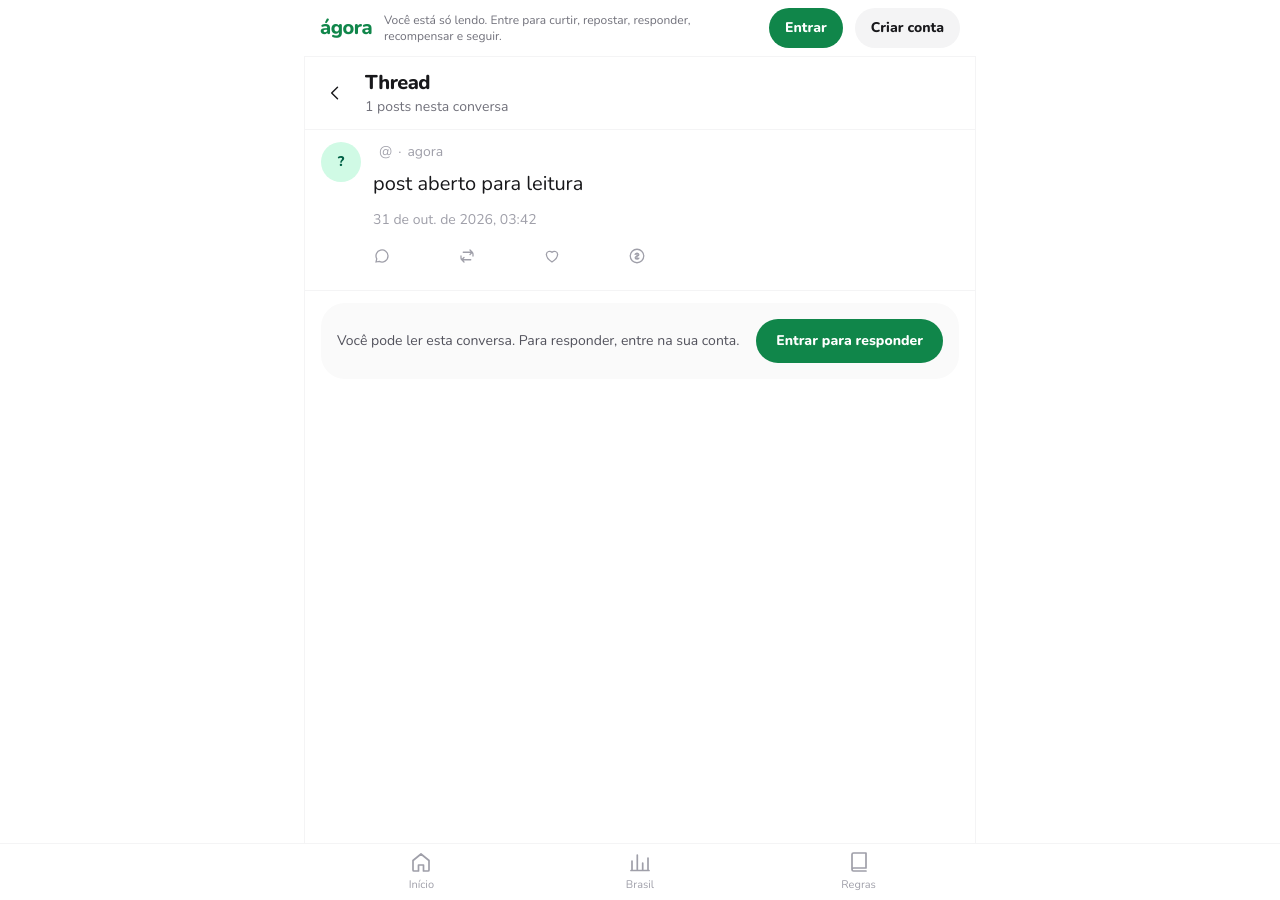
Test: visitante (sem conta) › ao sair, a versão de leitura confirma a saída, e o aviso pode ser fechado
This screenshot has width=1280, height=900.
Click the button "Entrar para responder" at (850, 340), box [756, 318, 943, 362]
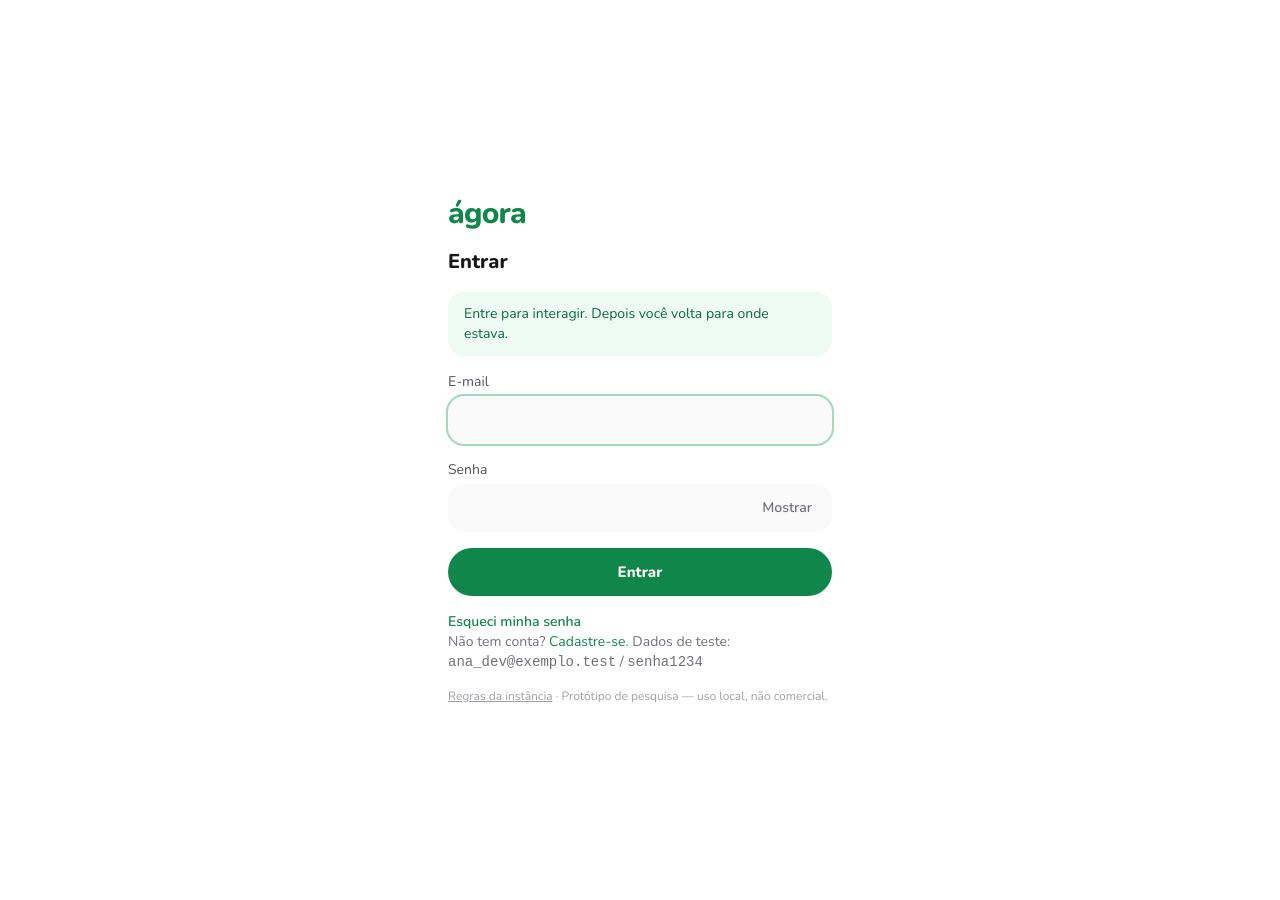
Type "ana@exemplo.test" into the field labelled "E-mail" at (640, 420), box [448, 396, 832, 444]
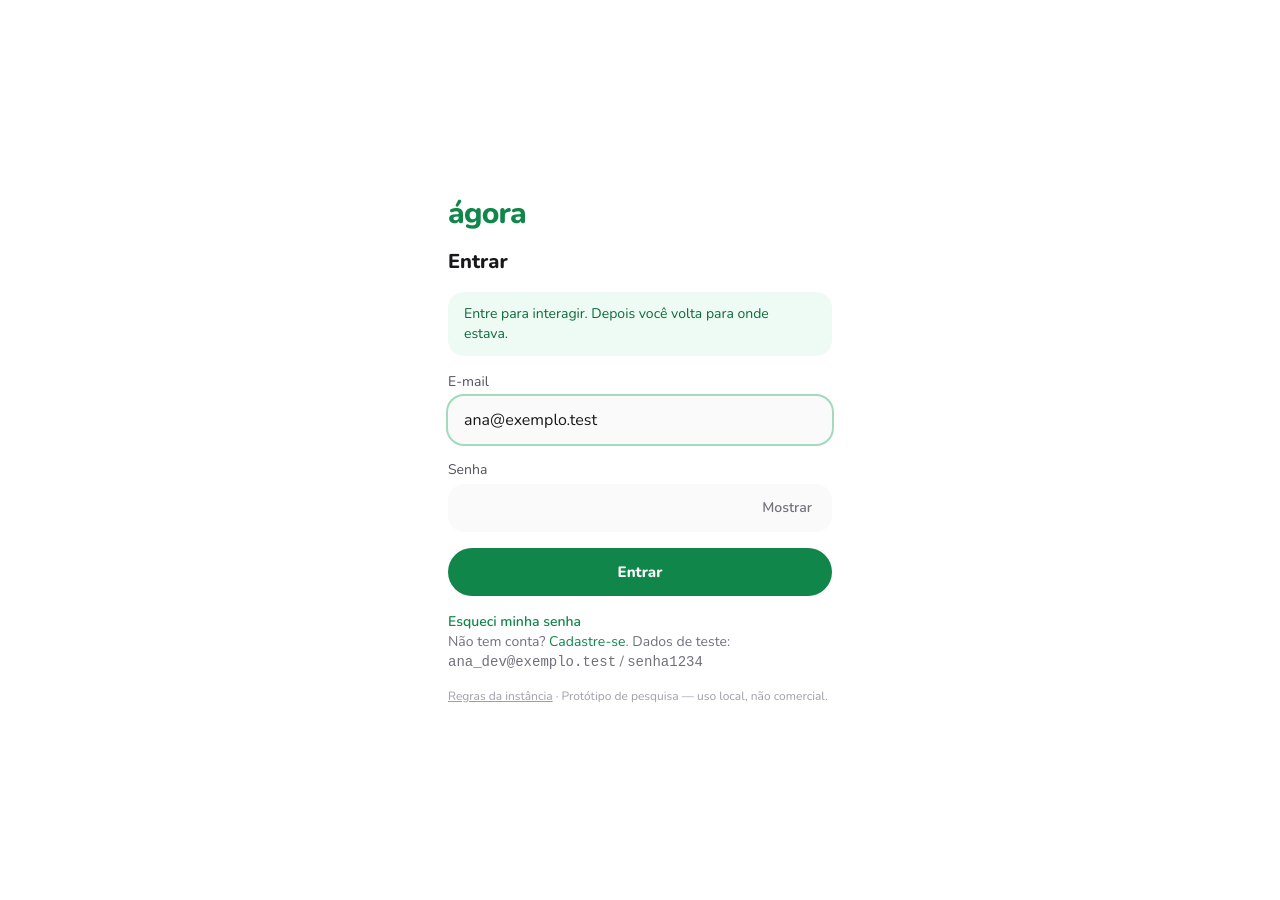
Type "senha1234" into the password field labelled "Senha" at (640, 508), box [448, 484, 832, 532]
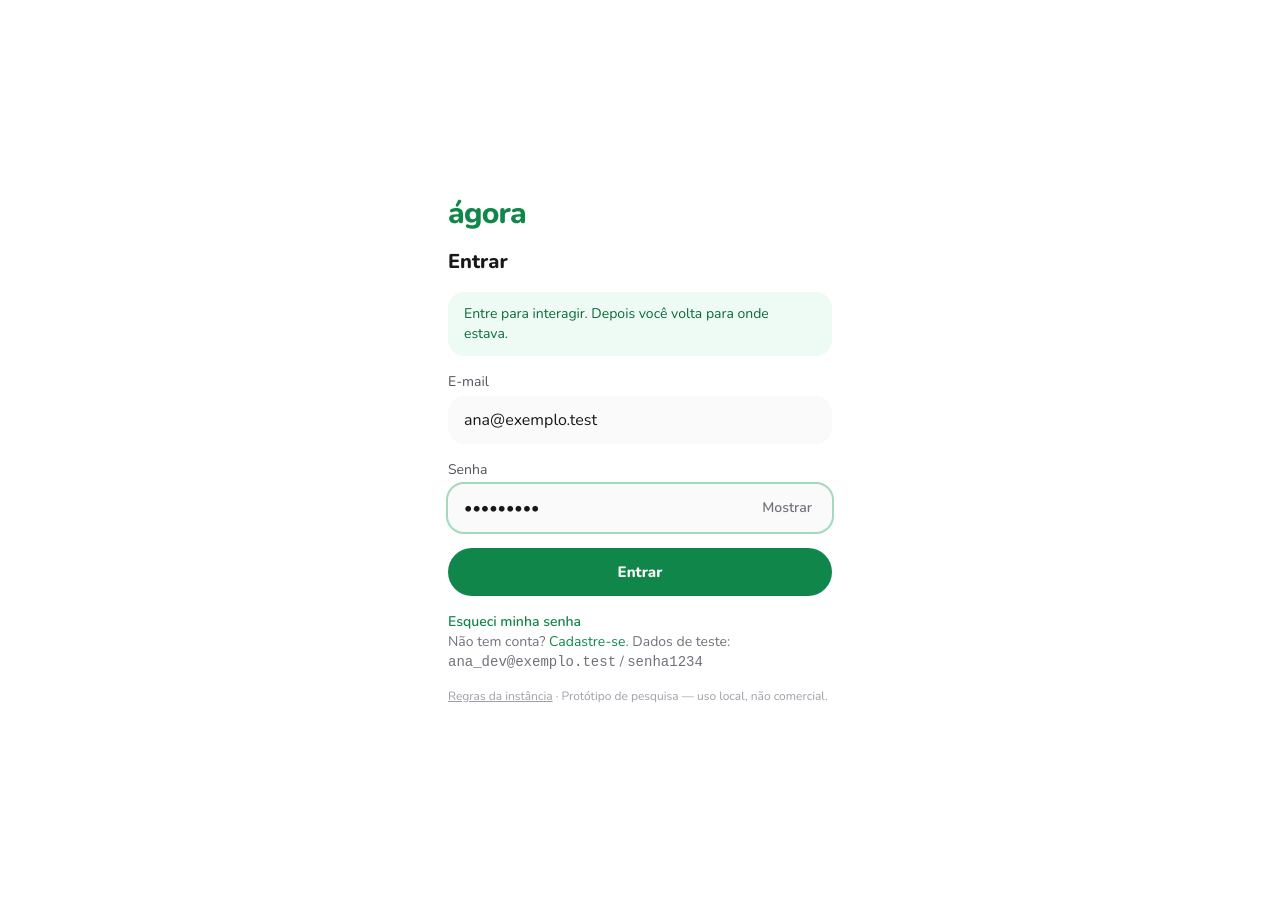
Click the button "Entrar" at (640, 572), box [448, 548, 832, 596]
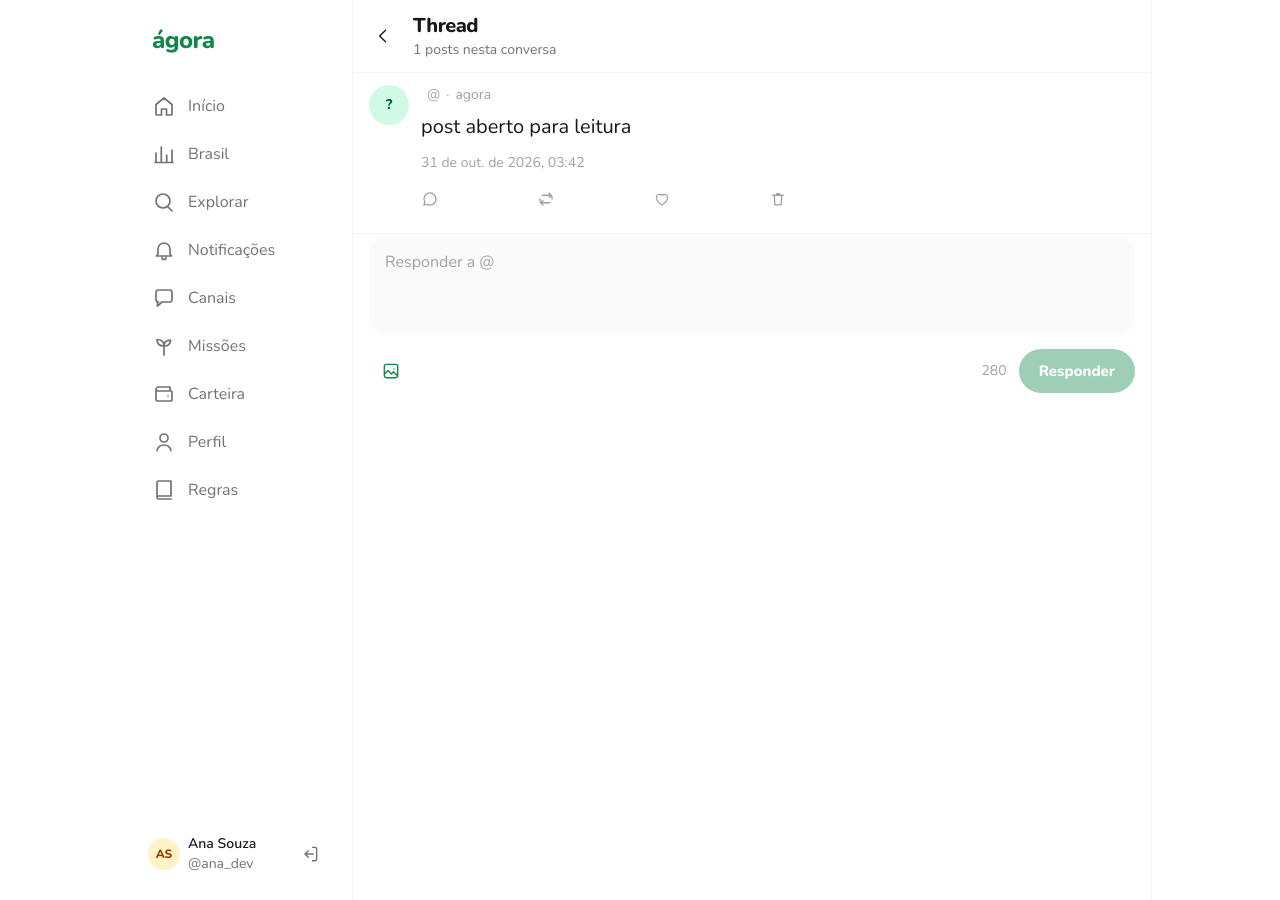
Expected: the text box with placeholder "Responder a @" is shown, [369, 238, 1135, 334]
Click the button named "Sair" at (310, 854), box [288, 832, 332, 876]
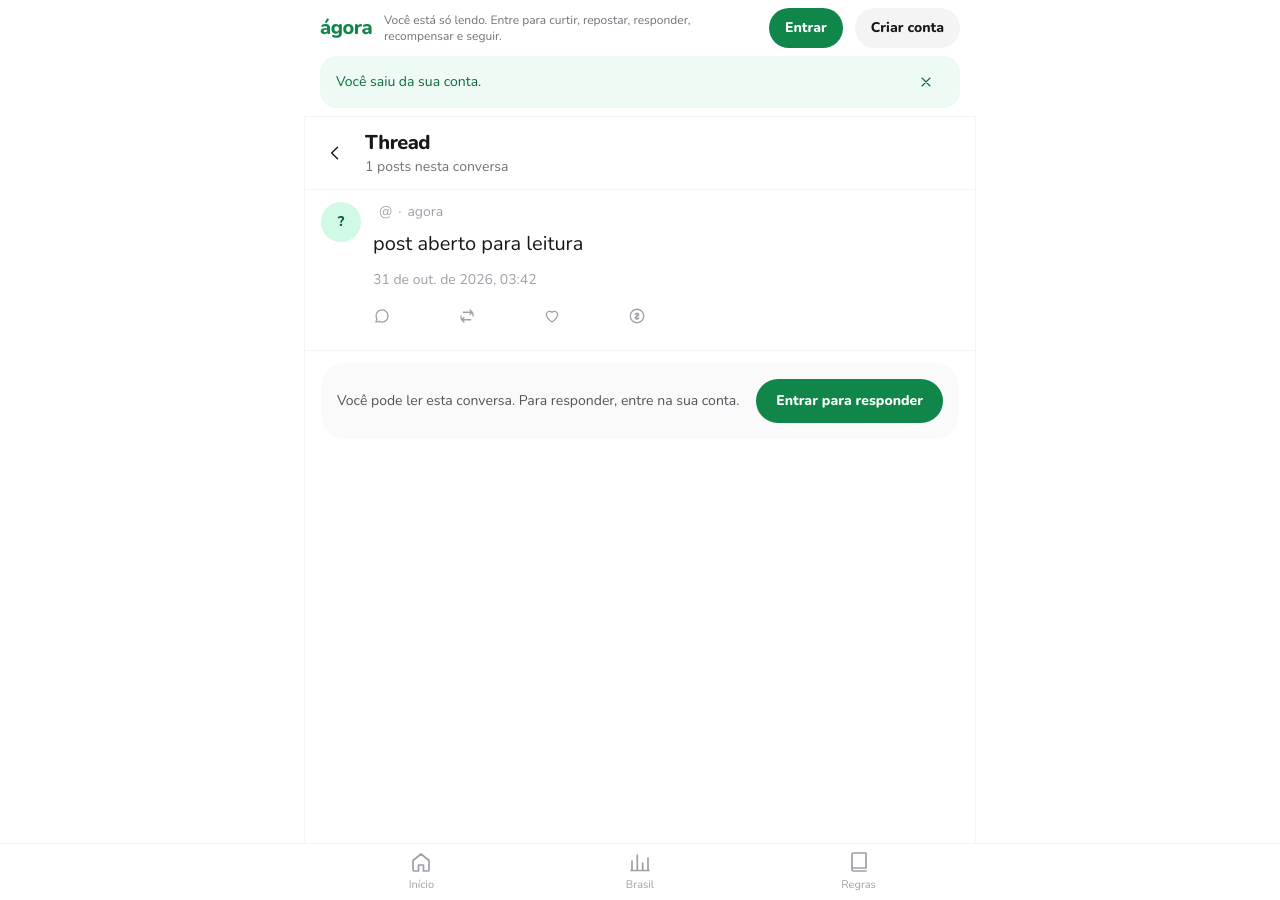
Expected: the text "Você está só lendo" is shown, [384, 12, 690, 44]
Expected: the message reads "Você saiu da sua conta.", [336, 72, 481, 91]
Click the button named "Fechar aviso" at (926, 82), box [908, 64, 944, 100]
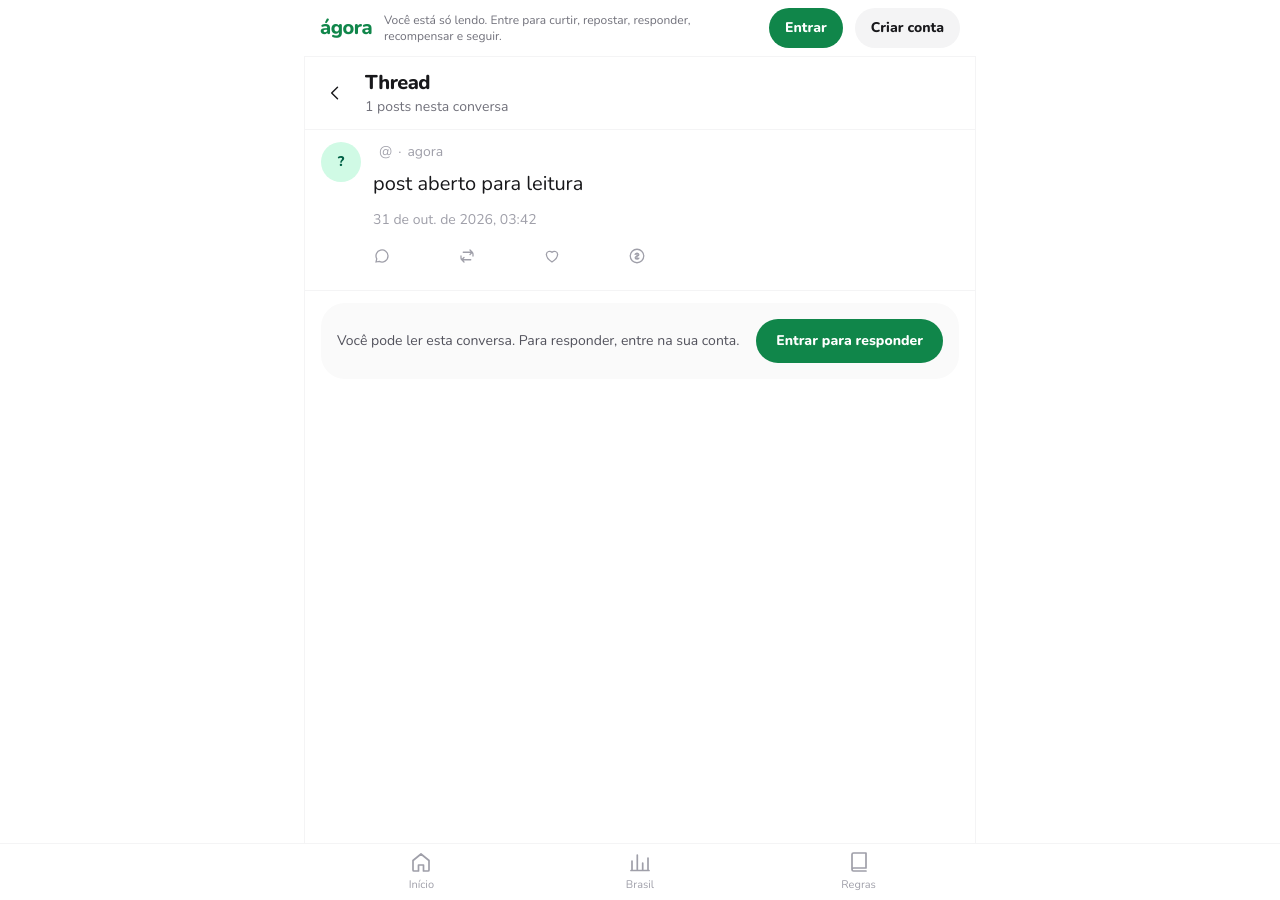
Expected: the text "Você saiu da sua conta." is gone
